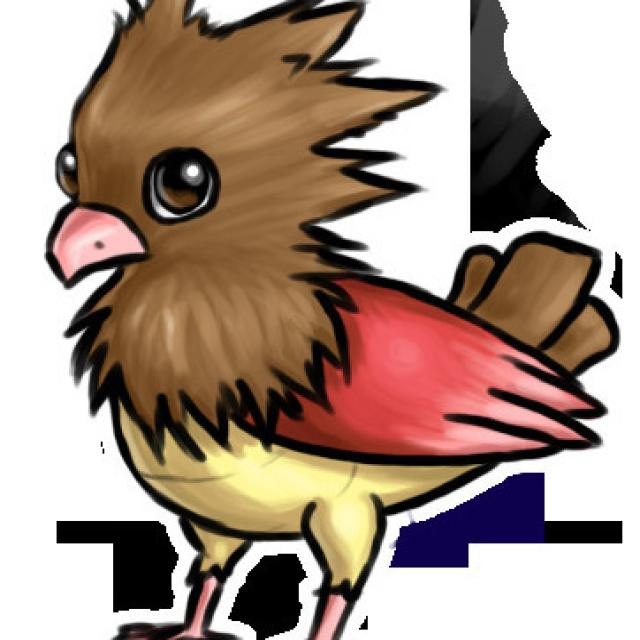Spearow: (51, 2, 461, 640)
